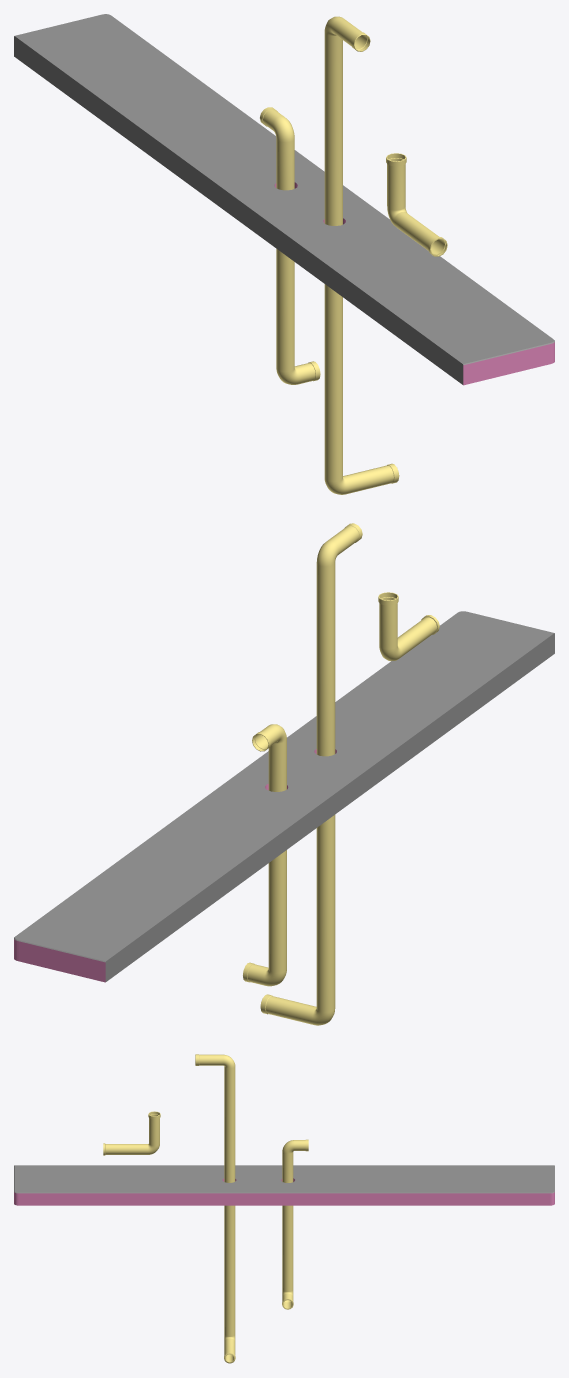
Rendered from Wall.FBX.
The picture shows the model from 3 angles, top to bottom: view 1: azimuth 30°, elevation 25°; view 2: azimuth 150°, elevation 25°; view 3: azimuth 270°, elevation 25°; orthographic projection. The views are drawn at different scales.
Visible parts, largest first — view 1: Wall, Tube, TubeBottom; view 2: Wall, Tube, TubeBottom; view 3: Wall, Tube, TubeBottom.
Boxes of the visible parts, left/top/right/bottom form: Wall: left=14, top=14, right=554, bottom=385; Tube: left=260, top=16, right=447, bottom=256; TubeBottom: left=276, top=249, right=399, bottom=494; Wall: left=14, top=611, right=554, bottom=982; Tube: left=252, top=523, right=439, bottom=791; TubeBottom: left=243, top=815, right=335, bottom=1025; Wall: left=14, top=1165, right=554, bottom=1205; Tube: left=103, top=1054, right=308, bottom=1182; TubeBottom: left=224, top=1205, right=293, bottom=1363.
Bounding box in the file's own units: 11.72 × 48.9 × 82.44.
